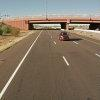Bridge: (9, 8, 100, 29)
